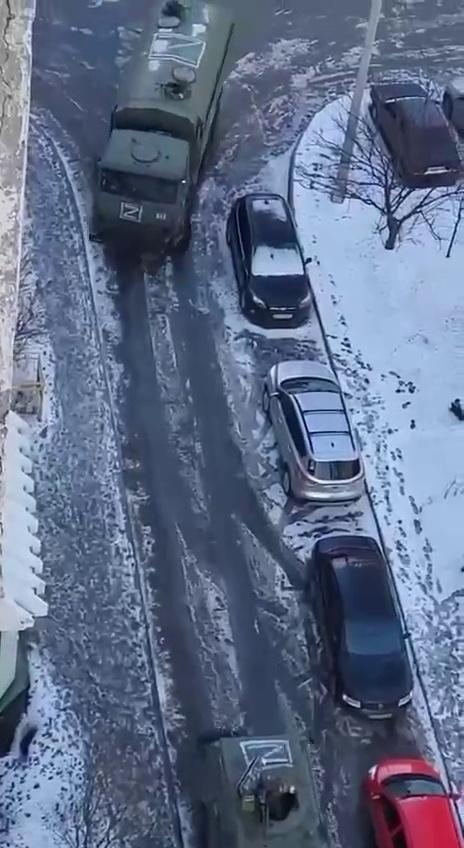car: (312, 536, 416, 722), (260, 359, 365, 506), (226, 192, 314, 325), (369, 80, 464, 188), (365, 755, 464, 848)
truck: (89, 0, 238, 252)
